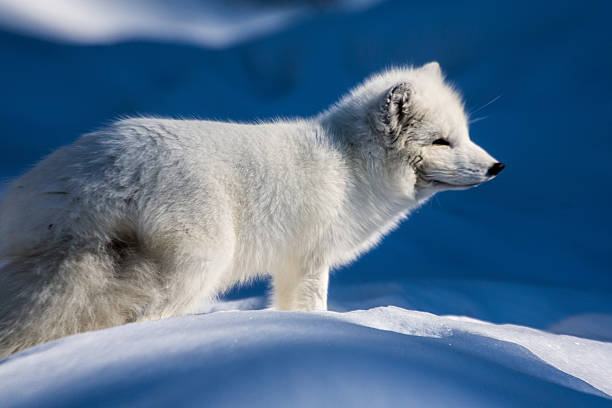arcticfox: (378, 76, 505, 204)
